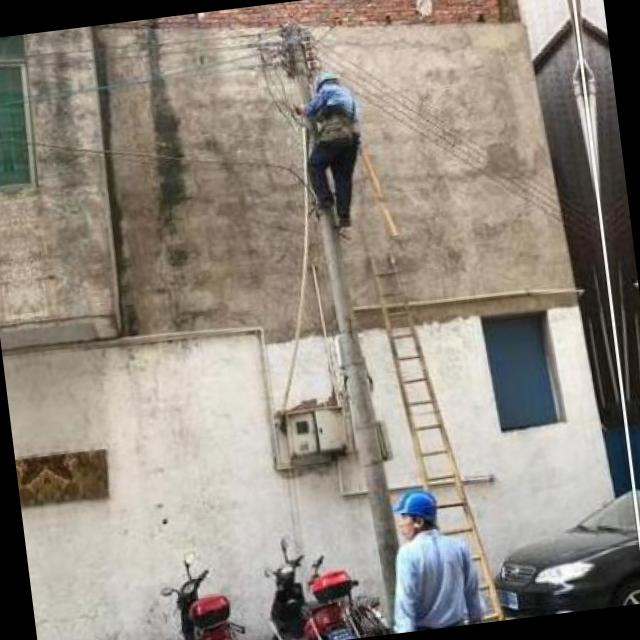helmet: (392, 482, 440, 540), (308, 64, 344, 100)
